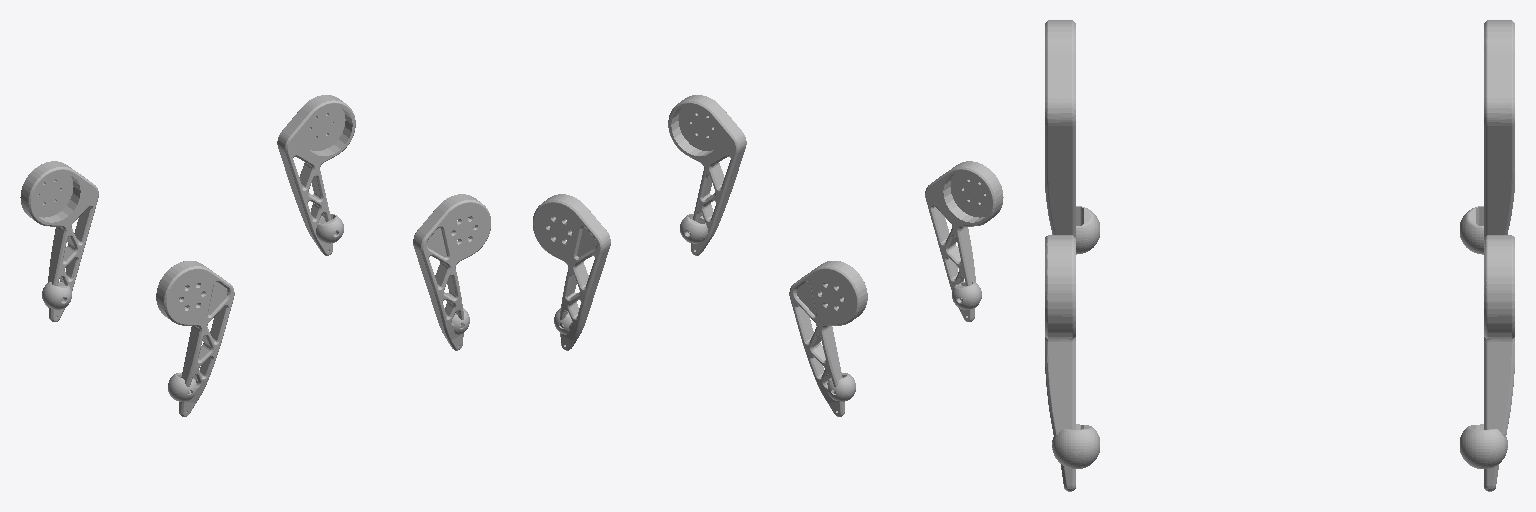
robot.urdf — reddog_20250221:
<?xml version="1.0" encoding="utf-8"?>
<!-- This URDF was automatically created by SolidWorks to URDF Exporter! Originally created by [author] ([email redacted]) 
     Commit Version: 1.6.0-4-g7f85cfe  Build Version: 1.6.7995.38578
     For more information, please see http://wiki.ros.org/sw_urdf_exporter -->
<robot
  name="reddog_20250221">
  <link
    name="base">
    <inertial>
      <origin
        xyz="-0.000178 -0.000021 0.003449"
        rpy="0 0 0" />
      <mass
        value="2.190280" />
      <inertia
        ixx="0.006223"
        ixy="-0.000002"
        ixz="-0.000008"
        iyy="0.019491"
        iyz="-0.000002"
        izz="0.023871" />
    </inertial>
    <visual>
      <origin
        xyz="0 0 0"
        rpy="0 0 0" />
      <geometry>
        <mesh
          filename="../meshes/base.STL" />
      </geometry>
      <material
        name="">
        <color
          rgba="0.752941176470588 0.752941176470588 0.752941176470588 1" />
      </material>
    </visual>
    <collision>
      <origin
        xyz="0 0 0"
        rpy="0 0 0" />
      <geometry>
        <mesh
          filename="../meshes/base.STL" />
      </geometry>
    </collision>
  </link>
  <link
    name="FL_hip">
    <inertial>
      <origin
        xyz="0.037499 0.013932 -0.000001"
        rpy="0 0 0" />
      <mass
        value="0.324730" />
      <inertia
        ixx="0.000123"
        ixy="0.000005"
        ixz="0.000000"
        iyy="0.000140"
        iyz="0.000000"
        izz="0.000130" />
    </inertial>
    <visual>
      <origin
        xyz="0 0 0"
        rpy="0 0 0" />
      <geometry>
        <mesh
          filename="../meshes/FL_hip.STL" />
      </geometry>
      <material
        name="">
        <color
          rgba="0.752941176470588 0.752941176470588 0.752941176470588 1" />
      </material>
    </visual>
    <collision>
      <origin
        xyz="0 0 0"
        rpy="0 0 0" />
      <geometry>
        <mesh
          filename="../meshes/FL_hip.STL" />
      </geometry>
    </collision>
  </link>
  <joint
    name="FL_hip_joint"
    type="revolute">
    <origin
      xyz="0.127999974999998 0.055 0"
      rpy="0 0 0" />
    <parent
      link="base" />
    <child
      link="FL_hip" />
    <axis
      xyz="1 0 0" />
    <limit
    lower="-1.0472"
    upper="1.0472"
    effort="23.7"
    velocity="30.1" />
  </joint>
  <link
    name="FL_thigh">
    <inertial>
      <origin
        xyz="-0.000085 0.025358 -0.120119"
        rpy="0 0 0" />
      <mass
        value="0.361700" />
      <inertia
        ixx="0.000463"
        ixy="0.000001"
        ixz="0.000001"
        iyy="0.000469"
        iyz="-0.000065"
        izz="0.000146" />
    </inertial>
    <visual>
      <origin
        xyz="0 0 0"
        rpy="0 0 0" />
      <geometry>
        <mesh
          filename="../meshes/FL_thigh.STL" />
      </geometry>
      <material
        name="">
        <color
          rgba="0.752941176470588 0.752941176470588 0.752941176470588 1" />
      </material>
    </visual>
    <collision>
      <origin
        xyz="0 0 0"
        rpy="0 0 0" />
      <geometry>
        <mesh
          filename="../meshes/FL_thigh.STL" />
      </geometry>
    </collision>
  </link>
  <joint
    name="FL_thigh_joint"
    type="revolute">
    <origin
      xyz="0.038500025 0.0375 0"
      rpy="0 0 0" />
    <parent
      link="FL_hip" />
    <child
      link="FL_thigh" />
    <axis
      xyz="0 1 0" />
    <limit
      lower="-1.5708"
      upper="1.5708"
      effort="23.7"
      velocity="30.1" />
  </joint>
  <link
    name="FL_calf">
    <inertial>
      <origin
        xyz="-0.000098 0.009600 -0.041141"
        rpy="0 0 0" />
      <mass
        value="0.037040" />
      <inertia
        ixx="0.000068"
        ixy="0.000000"
        ixz="0.000000"
        iyy="0.000076"
        iyz="0.000002"
        izz="0.000008" />
    </inertial>
    <visual>
      <origin
        xyz="0 0 0"
        rpy="0 0 0" />
      <geometry>
        <mesh
          filename="../meshes/FL_calf.STL" />
      </geometry>
      <material
        name="">
        <color
          rgba="0.752941176470588 0.752941176470588 0.752941176470588 1" />
      </material>
    </visual>
    <collision>
      <origin
        xyz="0 0 0"
        rpy="0 0 0" />
      <geometry>
        <mesh
          filename="../meshes/FL_calf.STL" />
      </geometry>
    </collision>
  </link>
  <joint
    name="FL_calf_joint"
    type="revolute">
    <origin
      xyz="0 0.0409852014855581 -0.130000000000001"
      rpy="0 0 0" />
    <parent
      link="FL_thigh" />
    <child
      link="FL_calf" />
    <axis
      xyz="0 1 0" />
    <limit
      lower="-2.7227"
      upper="2.7227"
      effort="35.55"
      velocity="20.07" />
  </joint>
  <link
    name="FL_foot">
    <inertial>
      <origin
        xyz="-0.000010 0.009809 -0.001455"
        rpy="0 0 0" />
      <mass
        value="0.010190" />
      <inertia
        ixx="0.000001"
        ixy="0.000000"
        ixz="0.000000"
        iyy="0.000001"
        iyz="0.000000"
        izz="0.000001" />
    </inertial>
    <visual>
      <origin
        xyz="0 0 0"
        rpy="0 0 0" />
      <geometry>
        <mesh
          filename="../meshes/FL_foot.STL" />
      </geometry>
      <material
        name="">
        <color
          rgba="0.752941176470588 0.752941176470588 0.752941176470588 1" />
      </material>
    </visual>
    <collision>
      <origin rpy="0 0 0" xyz="-0.002 0 0" />
      <geometry>
        <sphere radius="0.022" />
      </geometry>
    </collision>
  </link>
  <joint
    name="FL_foot_joint"
    type="fixed" dont_collapse="true">
    <origin
      xyz="0 0 -0.13"
      rpy="0 0 0" />
    <parent
      link="FL_calf" />
    <child
      link="FL_foot" />
    <axis
      xyz="0 1 0" />
  </joint>
  <link
    name="FR_hip">
    <inertial>
      <origin
        xyz="0.037499 -0.013932 -0.000001"
        rpy="0 0 0" />
      <mass
        value="0.324730" />
      <inertia
        ixx="0.000123"
        ixy="-0.000005"
        ixz="0.000000"
        iyy="0.000140"
        iyz="0.000000"
        izz="0.000130" />
    </inertial>
    <visual>
      <origin
        xyz="0 0 0"
        rpy="0 0 0" />
      <geometry>
        <mesh
          filename="../meshes/FR_hip.STL" />
      </geometry>
      <material
        name="">
        <color
          rgba="0.752941176470588 0.752941176470588 0.752941176470588 1" />
      </material>
    </visual>
    <collision>
      <origin
        xyz="0 0 0"
        rpy="0 0 0" />
      <geometry>
        <mesh
          filename="../meshes/FR_hip.STL" />
      </geometry>
    </collision>
  </link>
  <joint
    name="FR_hip_joint"
    type="revolute">
    <origin
      xyz="0.127999974999998 -0.055 0"
      rpy="0 0 0" />
    <parent
      link="base" />
    <child
      link="FR_hip" />
    <axis
      xyz="1 0 0" />
    <limit
      lower="-1.0472"
      upper="1.0472"
      effort="23.7"
      velocity="30.1" />
  </joint>
  <link
    name="FR_thigh">
    <inertial>
      <origin
        xyz="-0.000082 -0.027481 -0.125699"
        rpy="0 0 0" />
      <mass
        value="0.324730" />
      <inertia
        ixx="0.000254"
        ixy="-0.000001"
        ixz="0.000000"
        iyy="0.000267"
        iyz="0.000028"
        izz="0.000122" />
    </inertial>
    <visual>
      <origin
        xyz="0 0 0"
        rpy="0 0 0" />
      <geometry>
        <mesh
          filename="../meshes/FR_thigh.STL" />
      </geometry>
      <material
        name="">
        <color
          rgba="0.752941176470588 0.752941176470588 0.752941176470588 1" />
      </material>
    </visual>
    <collision>
      <origin
        xyz="0 0 0"
        rpy="0 0 0" />
      <geometry>
        <mesh
          filename="../meshes/FR_thigh.STL" />
      </geometry>
    </collision>
  </link>
  <joint
    name="FR_thigh_joint"
    type="revolute">
    <origin
      xyz="0.0385000250000002 -0.0374999999999999 0"
      rpy="0 0 0" />
    <parent
      link="FR_hip" />
    <child
      link="FR_thigh" />
    <axis
      xyz="0 1 0" />
    <limit
      lower="-1.5708"
      upper="1.5708"
      effort="23.7"
      velocity="30.1" />
  </joint>
  <link
    name="FR_calf">
    <inertial>
      <origin
        xyz="-0.000098 -0.009599 -0.041140"
        rpy="0 0 0" />
      <mass
        value="0.037400" />
      <inertia
        ixx="0.000069"
        ixy="0.000000"
        ixz="0.000000"
        iyy="0.000076"
        iyz="-0.000002"
        izz="0.000008" />
    </inertial>
    <visual>
      <origin
        xyz="0 0 0"
        rpy="0 0 0" />
      <geometry>
        <mesh
          filename="../meshes/FR_calf.STL" />
      </geometry>
      <material
        name="">
        <color
          rgba="0.752941176470588 0.752941176470588 0.752941176470588 1" />
      </material>
    </visual>
    <collision>
      <origin
        xyz="0 0 0"
        rpy="0 0 0" />
      <geometry>
        <mesh
          filename="../meshes/FR_calf.STL" />
      </geometry>
    </collision>
  </link>
  <joint
    name="FR_calf_joint"
    type="revolute">
    <origin
      xyz="0 -0.0409852014855582 -0.130000000000001"
      rpy="0 0 0" />
    <parent
      link="FR_thigh" />
    <child
      link="FR_calf" />
    <axis
      xyz="0 1 0" />
    <limit
      lower="-2.7227"
      upper="2.7227"
      effort="35.55"
      velocity="20.07" />
  </joint>
  <link
    name="FR_foot">
    <inertial>
      <origin
        xyz="-0.000010 -0.009809 -0.001455"
        rpy="0 0 0" />
      <mass
        value="0.010190" />
      <inertia
        ixx="0.000001"
        ixy="0.000000"
        ixz="0.000000"
        iyy="0.000001"
        iyz="0.000000"
        izz="0.000001" />
    </inertial>
    <visual>
      <origin
        xyz="0 0 0"
        rpy="0 0 0" />
      <geometry>
        <mesh
          filename="../meshes/FR_foot.STL" />
      </geometry>
      <material
        name="">
        <color
          rgba="0.752941176470588 0.752941176470588 0.752941176470588 1" />
      </material>
    </visual>
    <collision>
      <origin rpy="0 0 0" xyz="-0.002 0 0" />
      <geometry>
        <sphere radius="0.022" />
      </geometry>
    </collision>
  </link>
  <joint
    name="FR_foot_joint"
    type="fixed" dont_collapse="true">
    <origin
      xyz="0 0 -0.13"
      rpy="0 0 0" />
    <parent
      link="FR_calf" />
    <child
      link="FR_foot" />
    <axis
      xyz="0 1 0" />
  </joint>
  <link
    name="RL_hip">
    <inertial>
      <origin
        xyz="-0.037499 0.013932 0.000001"
        rpy="0 0 0" />
      <mass
        value="0.324730" />
      <inertia
        ixx="0.000123"
        ixy="-0.000005"
        ixz="0.000000"
        iyy="0.000140"
        iyz="0.000000"
        izz="0.000130" />
    </inertial>
    <visual>
      <origin
        xyz="0 0 0"
        rpy="0 0 0" />
      <geometry>
        <mesh
          filename="../meshes/RL_hip.STL" />
      </geometry>
      <material
        name="">
        <color
          rgba="0.752941176470588 0.752941176470588 0.752941176470588 1" />
      </material>
    </visual>
    <collision>
      <origin
        xyz="0 0 0"
        rpy="0 0 0" />
      <geometry>
        <mesh
          filename="../meshes/RL_hip.STL" />
      </geometry>
    </collision>
  </link>
  <joint
    name="RL_hip_joint"
    type="revolute">
    <origin
      xyz="-0.127999974999999 0.054999999999999 0"
      rpy="0 0 0" />
    <parent
      link="base" />
    <child
      link="RL_hip" />
    <axis
      xyz="1 0 0" />
    <limit
      lower="-1.0472"
      upper="1.0472"
      effort="23.7"
      velocity="30.1" />
  </joint>
  <link
    name="RL_thigh">
    <inertial>
      <origin
        xyz="-0.000085 0.025358 -0.120119"
        rpy="0 0 0" />
      <mass
        value="0.361700" />
      <inertia
        ixx="0.000463"
        ixy="0.000001"
        ixz="0.000001"
        iyy="0.000469"
        iyz="-0.000065"
        izz="0.000146" />
    </inertial>
    <visual>
      <origin
        xyz="0 0 0"
        rpy="0 0 0" />
      <geometry>
        <mesh
          filename="../meshes/RL_thigh.STL" />
      </geometry>
      <material
        name="">
        <color
          rgba="0.752941176470588 0.752941176470588 0.752941176470588 1" />
      </material>
    </visual>
    <collision>
      <origin
        xyz="0 0 0"
        rpy="0 0 0" />
      <geometry>
        <mesh
          filename="../meshes/RL_thigh.STL" />
      </geometry>
    </collision>
  </link>
  <joint
    name="RL_thigh_joint"
    type="revolute">
    <origin
      xyz="-0.0385000249999999 0.0374999999999952 0"
      rpy="0 0 0" />
    <parent
      link="RL_hip" />
    <child
      link="RL_thigh" />
    <axis
      xyz="0 1 0" />
    <limit
      lower="-1.5708"
      upper="1.5708"
      effort="23.7"
      velocity="30.1" />
  </joint>
  <link
    name="RL_calf">
    <inertial>
      <origin
        xyz="-0.000098 0.009600 -0.041141"
        rpy="0 0 0" />
      <mass
        value="0.037400" />
      <inertia
        ixx="0.000069"
        ixy="0.000000"
        ixz="0.000000"
        iyy="0.000076"
        iyz="0.000002"
        izz="0.000008" />
    </inertial>
    <visual>
      <origin
        xyz="0 0 0"
        rpy="0 0 0" />
      <geometry>
        <mesh
          filename="../meshes/RL_calf.STL" />
      </geometry>
      <material
        name="">
        <color
          rgba="0.752941176470588 0.752941176470588 0.752941176470588 1" />
      </material>
    </visual>
    <collision>
      <origin
        xyz="0 0 0"
        rpy="0 0 0" />
      <geometry>
        <mesh
          filename="../meshes/RL_calf.STL" />
      </geometry>
    </collision>
  </link>
  <joint
    name="RL_calf_joint"
    type="revolute">
    <origin
      xyz="0 0.0409852014855523 -0.130000000000005"
      rpy="0 0 0" />
    <parent
      link="RL_thigh" />
    <child
      link="RL_calf" />
    <axis
      xyz="0 1 0" />
    <limit
      lower="-2.7227"
      upper="2.7227"
      effort="35.55"
      velocity="20.07" />
  </joint>
  <link
    name="RL_foot">
    <inertial>
      <origin
        xyz="-0.000010 0.009809 -0.001455"
        rpy="0 0 0" />
      <mass
        value="0.010190" />
      <inertia
        ixx="0.000001"
        ixy="0.000000"
        ixz="0.000000"
        iyy="0.000001"
        iyz="0.000000"
        izz="0.000001" />
    </inertial>
    <visual>
      <origin
        xyz="0 0 0"
        rpy="0 0 0" />
      <geometry>
        <mesh
          filename="../meshes/RL_foot.STL" />
      </geometry>
      <material
        name="">
        <color
          rgba="0.752941176470588 0.752941176470588 0.752941176470588 1" />
      </material>
    </visual>
    <collision>
      <origin rpy="0 0 0" xyz="-0.002 0 0" />
      <geometry>
        <sphere radius="0.022" />
      </geometry>
    </collision>
  </link>
  <joint
    name="RL_foot_joint"
    type="fixed" dont_collapse="true">
    <origin
      xyz="0 0 -0.130000000000004"
      rpy="0 0 0" />
    <parent
      link="RL_calf" />
    <child
      link="RL_foot" />
    <axis
      xyz="0 1 0" />
  </joint>
  <link
    name="RR_hip">
    <inertial>
      <origin
        xyz="-0.037499 -0.013932 0.000001"
        rpy="0 0 0" />
      <mass
        value="0.324730" />
      <inertia
        ixx="0.000123"
        ixy="0.000005"
        ixz="0.000000"
        iyy="0.000140"
        iyz="0.000000"
        izz="0.000130" />
    </inertial>
    <visual>
      <origin
        xyz="0 0 0"
        rpy="0 0 0" />
      <geometry>
        <mesh
          filename="../meshes/RR_hip.STL" />
      </geometry>
      <material
        name="">
        <color
          rgba="0.752941176470588 0.752941176470588 0.752941176470588 1" />
      </material>
    </visual>
    <collision>
      <origin
        xyz="0 0 0"
        rpy="0 0 0" />
      <geometry>
        <mesh
          filename="../meshes/RR_hip.STL" />
      </geometry>
    </collision>
  </link>
  <joint
    name="RR_hip_joint"
    type="revolute">
    <origin
      xyz="-0.127999975000002 -0.055 0"
      rpy="0 0 0" />
    <parent
      link="base" />
    <child
      link="RR_hip" />
    <axis
      xyz="1 0 0" />
    <limit
      lower="-1.0472"
      upper="1.0472"
      effort="23.7"
      velocity="30.1" />
  </joint>
  <link
    name="RR_thigh">
    <inertial>
      <origin
        xyz="-0.000085 -0.025358 -0.120120"
        rpy="0 0 0" />
      <mass
        value="0.361700" />
      <inertia
        ixx="0.000463"
        ixy="-0.000001"
        ixz="0.000001"
        iyy="0.000469"
        iyz="0.000064"
        izz="0.000146" />
    </inertial>
    <visual>
      <origin
        xyz="0 0 0"
        rpy="0 0 0" />
      <geometry>
        <mesh
          filename="../meshes/RR_thigh.STL" />
      </geometry>
      <material
        name="">
        <color
          rgba="0.752941176470588 0.752941176470588 0.752941176470588 1" />
      </material>
    </visual>
    <collision>
      <origin
        xyz="0 0 0"
        rpy="0 0 0" />
      <geometry>
        <mesh
          filename="../meshes/RR_thigh.STL" />
      </geometry>
    </collision>
  </link>
  <joint
    name="RR_thigh_joint"
    type="revolute">
    <origin
      xyz="-0.0385000250000012 -0.0374999999999921 0"
      rpy="0 0 0" />
    <parent
      link="RR_hip" />
    <child
      link="RR_thigh" />
    <axis
      xyz="0 1 0" />
    <limit
      lower="-1.5708"
      upper="1.5708"
      effort="23.7"
      velocity="30.1" />
  </joint>
  <link
    name="RR_calf">
    <inertial>
      <origin
        xyz="-0.000098 -0.009599 -0.041140"
        rpy="0 0 0" />
      <mass
        value="0.037400" />
      <inertia
        ixx="0.000069"
        ixy="0.000000"
        ixz="0.000000"
        iyy="0.000076"
        iyz="-0.000002"
        izz="0.000008" />
    </inertial>
    <visual>
      <origin
        xyz="0 0 0"
        rpy="0 0 0" />
      <geometry>
        <mesh
          filename="../meshes/RR_calf.STL" />
      </geometry>
      <material
        name="">
        <color
          rgba="0.752941176470588 0.752941176470588 0.752941176470588 1" />
      </material>
    </visual>
    <collision>
      <origin
        xyz="0 0 0"
        rpy="0 0 0" />
      <geometry>
        <mesh
          filename="../meshes/RR_calf.STL" />
      </geometry>
    </collision>
  </link>
  <joint
    name="RR_calf_joint"
    type="revolute">
    <origin
      xyz="0 -0.040985201485548 -0.130000000000005"
      rpy="0 0 0" />
    <parent
      link="RR_thigh" />
    <child
      link="RR_calf" />
    <axis
      xyz="0 1 0" />
    <limit
      lower="-2.7227"
      upper="2.7227"
      effort="35.55"
      velocity="20.07" />
  </joint>
  <link
    name="RR_foot">
    <inertial>
      <origin
        xyz="-0.000010 -0.009809 -0.001455"
        rpy="0 0 0" />
      <mass
        value="0.010190" />
      <inertia
        ixx="0.000001"
        ixy="0.000000"
        ixz="0.000000"
        iyy="0.000001"
        iyz="0.000000"
        izz="0.000001" />
    </inertial>
    <visual>
      <origin
        xyz="0 0 0"
        rpy="0 0 0" />
      <geometry>
        <mesh
          filename="../meshes/RR_foot.STL" />
      </geometry>
      <material
        name="">
        <color
          rgba="0.752941176470588 0.752941176470588 0.752941176470588 1" />
      </material>
    </visual>
    <collision>
      <origin rpy="0 0 0" xyz="-0.002 0 0" />
      <geometry>
        <sphere radius="0.022" />
      </geometry>
    </collision>
  </link>
  <joint
    name="RR_foot_joint"
    type="fixed" dont_collapse="true">
    <origin
      xyz="0 0 -0.130000000000004"
      rpy="0 0 0" />
    <parent
      link="RR_calf" />
    <child
      link="RR_foot" />
    <axis
      xyz="0 1 0" />
  </joint>
</robot>

--- Facts derived from the render (not from the file) ---
Views: 3 orthographic renders of the robot side by side, from view 1: azimuth 30°, elevation 25°; view 2: azimuth 150°, elevation 25°; view 3: azimuth 270°, elevation 25°.
Robot: reddog_20250221 — 17 links, 16 joints (12 revolute, 4 fixed); root link base; default pose: every joint at zero.
Links seen in each view (by area): view 1: RR_calf, FR_calf, FL_calf, RL_calf, RL_foot, FL_foot, RR_foot; view 2: RL_calf, FL_calf, FR_calf, RR_calf, RR_foot, FR_foot, RL_foot; view 3: RL_calf, RR_calf, FL_calf, FR_calf, FL_foot, FR_foot, RL_foot, RR_foot.
Boxes of the visible links, x1=… form: RR_calf: x1=156, y1=261, x2=234, y2=416; FR_calf: x1=413, y1=194, x2=490, y2=350; FL_calf: x1=277, y1=95, x2=355, y2=255; RL_calf: x1=20, y1=161, x2=98, y2=321; RL_foot: x1=42, y1=282, x2=71, y2=309; FL_foot: x1=316, y1=214, x2=343, y2=243; RR_foot: x1=168, y1=373, x2=196, y2=401; RL_calf: x1=789, y1=261, x2=867, y2=416; FL_calf: x1=533, y1=194, x2=610, y2=350; FR_calf: x1=668, y1=95, x2=746, y2=255; RR_calf: x1=925, y1=161, x2=1003, y2=321; RR_foot: x1=952, y1=282, x2=981, y2=309; FR_foot: x1=680, y1=214, x2=707, y2=243; RL_foot: x1=827, y1=373, x2=855, y2=401; RL_calf: x1=1484, y1=20, x2=1514, y2=237; RR_calf: x1=1045, y1=20, x2=1075, y2=237; FL_calf: x1=1484, y1=235, x2=1514, y2=491; FR_calf: x1=1045, y1=235, x2=1075, y2=491; FL_foot: x1=1460, y1=424, x2=1507, y2=468; FR_foot: x1=1052, y1=424, x2=1099, y2=468; RL_foot: x1=1460, y1=206, x2=1483, y2=254; RR_foot: x1=1076, y1=206, x2=1099, y2=254.
Size in the robot's own frame: 0.401 by 0.3084 by 0.1809 metres.
8 mesh visuals loaded from 17 distinct referenced files (8 binary STL); not drawn: 9 (reference not matched to a file when rendering).